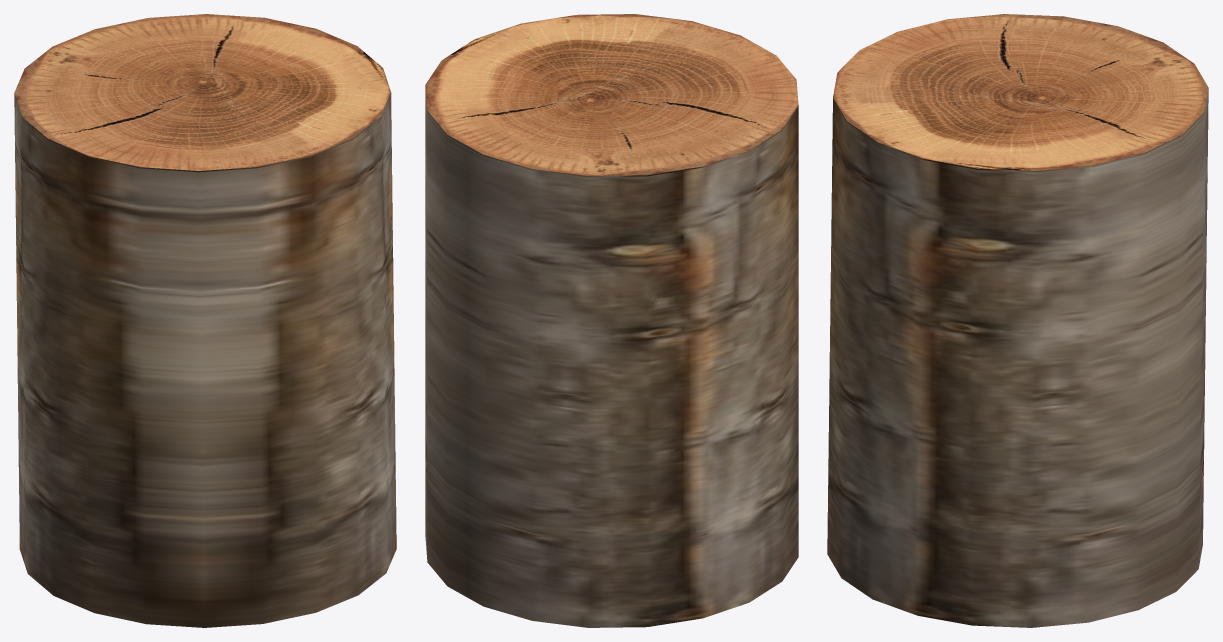
Rendered from Log stool.fbx.
3 views of the same model, side by side, from view 1: azimuth 30°, elevation 25°; view 2: azimuth 150°, elevation 25°; view 3: azimuth 270°, elevation 25° (orthographic).
Visible parts, largest first — view 1: pCylinder77; view 2: pCylinder77; view 3: pCylinder77.
Part boxes in pixels (<box>): pCylinder77: <box>14,14,396,627</box>; pCylinder77: <box>425,14,798,627</box>; pCylinder77: <box>827,14,1208,627</box>.
Size of the model in its own units: 0.2903 by 0.389 by 0.2923.
2 materials, 2 textured.
